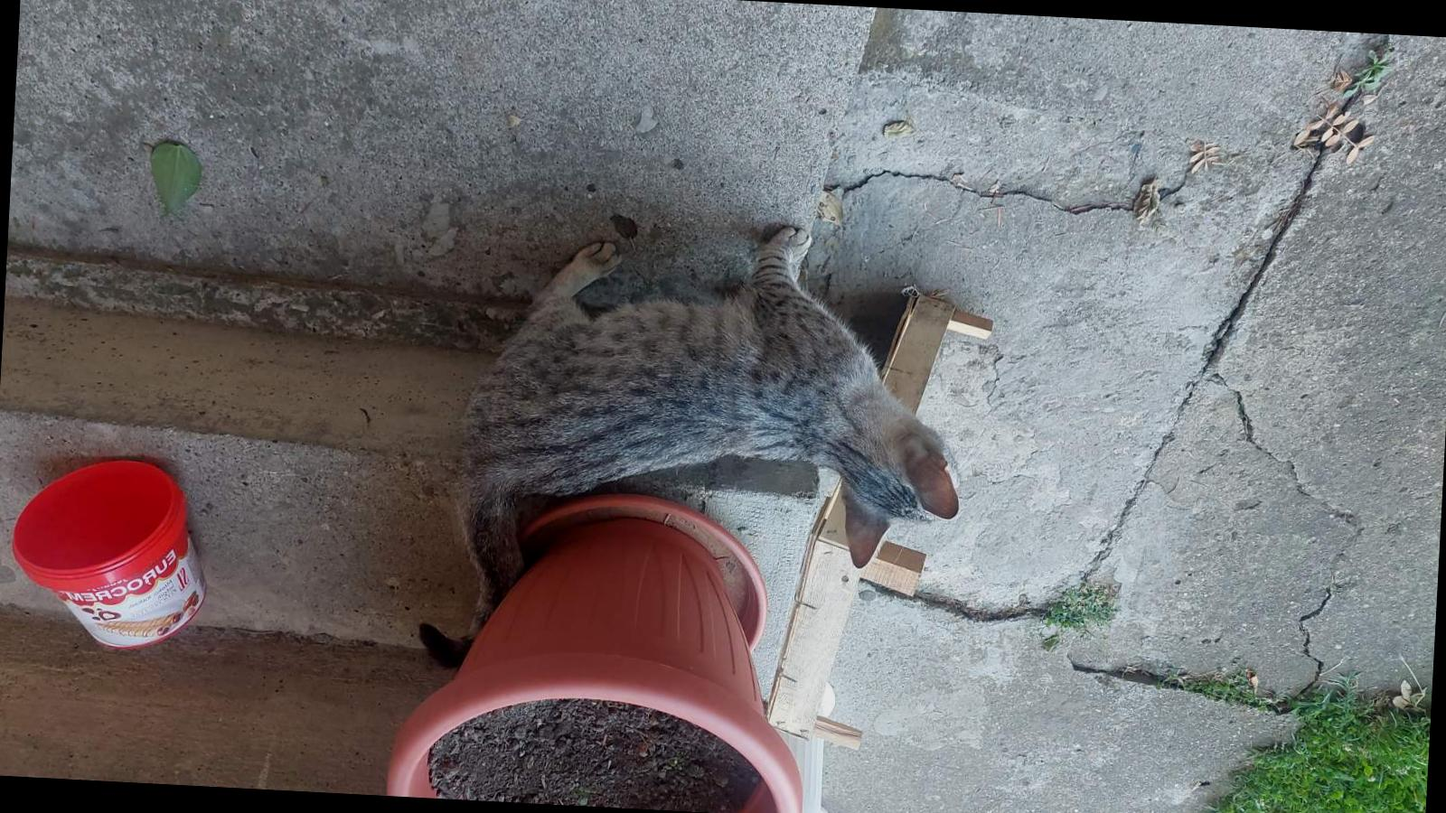macka: (417, 207, 975, 698)
